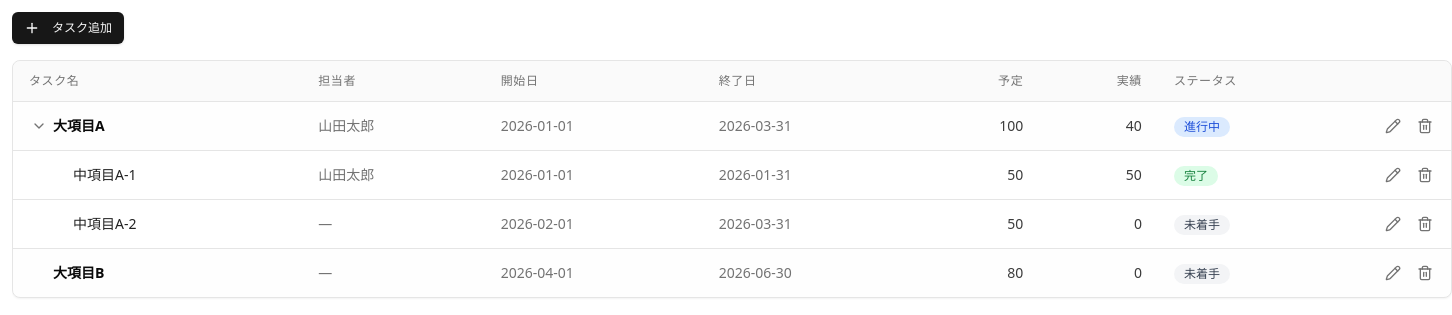
Test: WbsTreeTable › 折りたたみ › 大項目の折りたたみボタンをクリックすると子タスクが非表示になる
Expected: the text "中項目A-1" is shown, [73,165,136,185]
Note: 大項目Aの折りたたみボタンをクリック
Click the button named "折りたたみ".
click(39, 126)  # box [29,116,49,136]
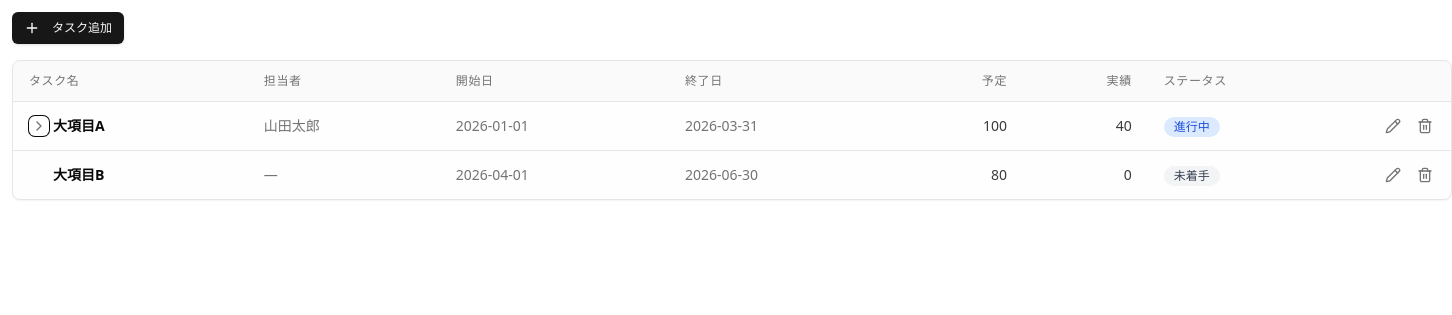
Now the text "中項目A-1" is gone
Now the text "中項目A-2" is gone
